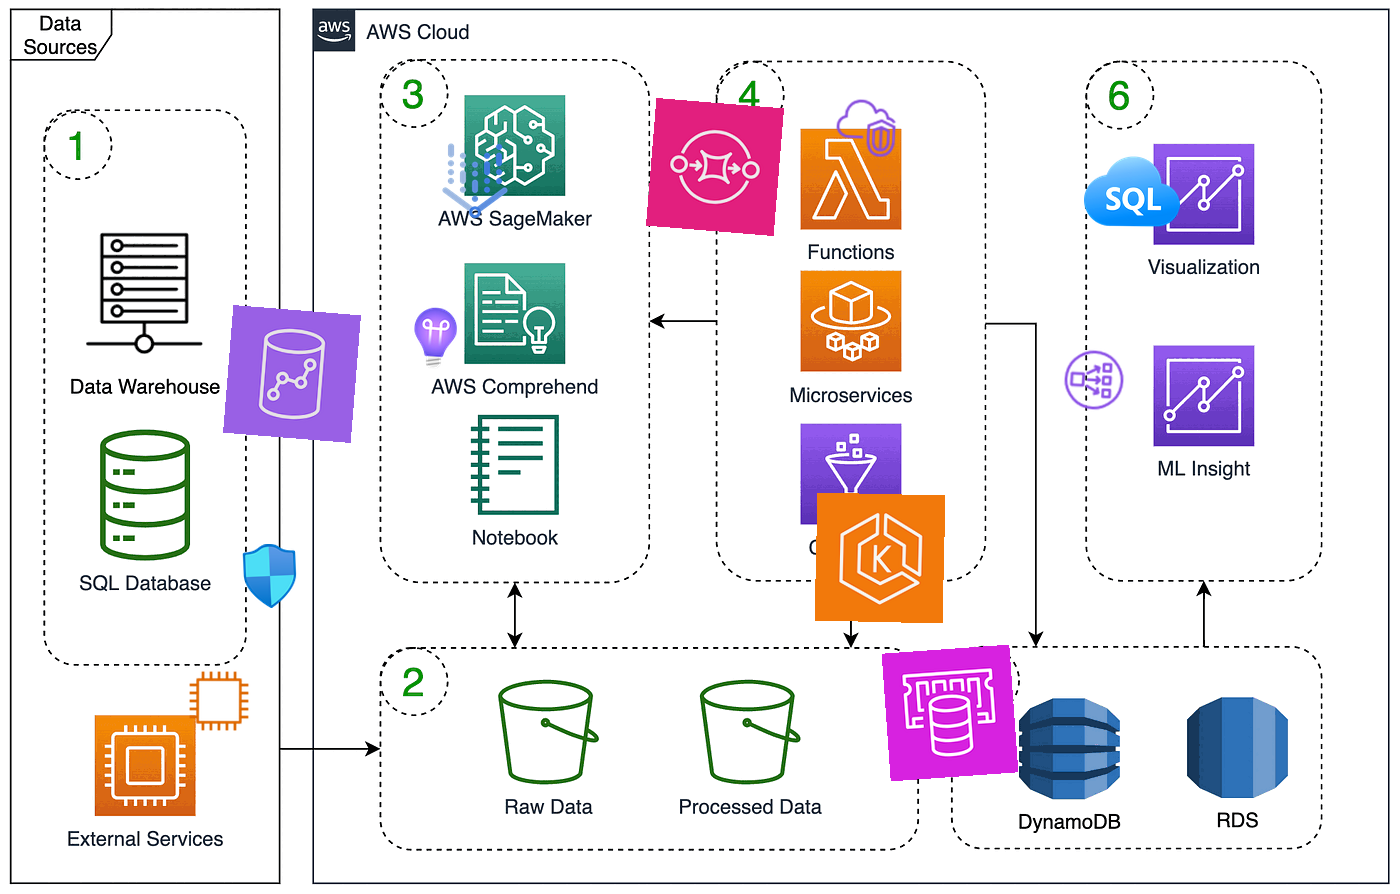aws_amazon_elastic_kubernetes_service: (814, 492, 946, 624)
aws_amazon_elasticache: (881, 644, 1019, 782)
aws_amazon_redshift: (223, 305, 361, 443)
aws_amazon_simple_queue_service: (646, 98, 784, 236)
aws_ec2_instance: (186, 668, 252, 734)
aws_elastic_load_balancing_network_load_balancer: (1060, 346, 1128, 414)
aws_vpc_virtual_private_cloud_vpc: (832, 94, 900, 162)
azure_application_insights: (400, 303, 470, 373)
azure_network_security_groups: (236, 542, 304, 610)
azure_sql: (1083, 144, 1181, 242)
gcp_vertex_ai: (426, 132, 524, 230)
